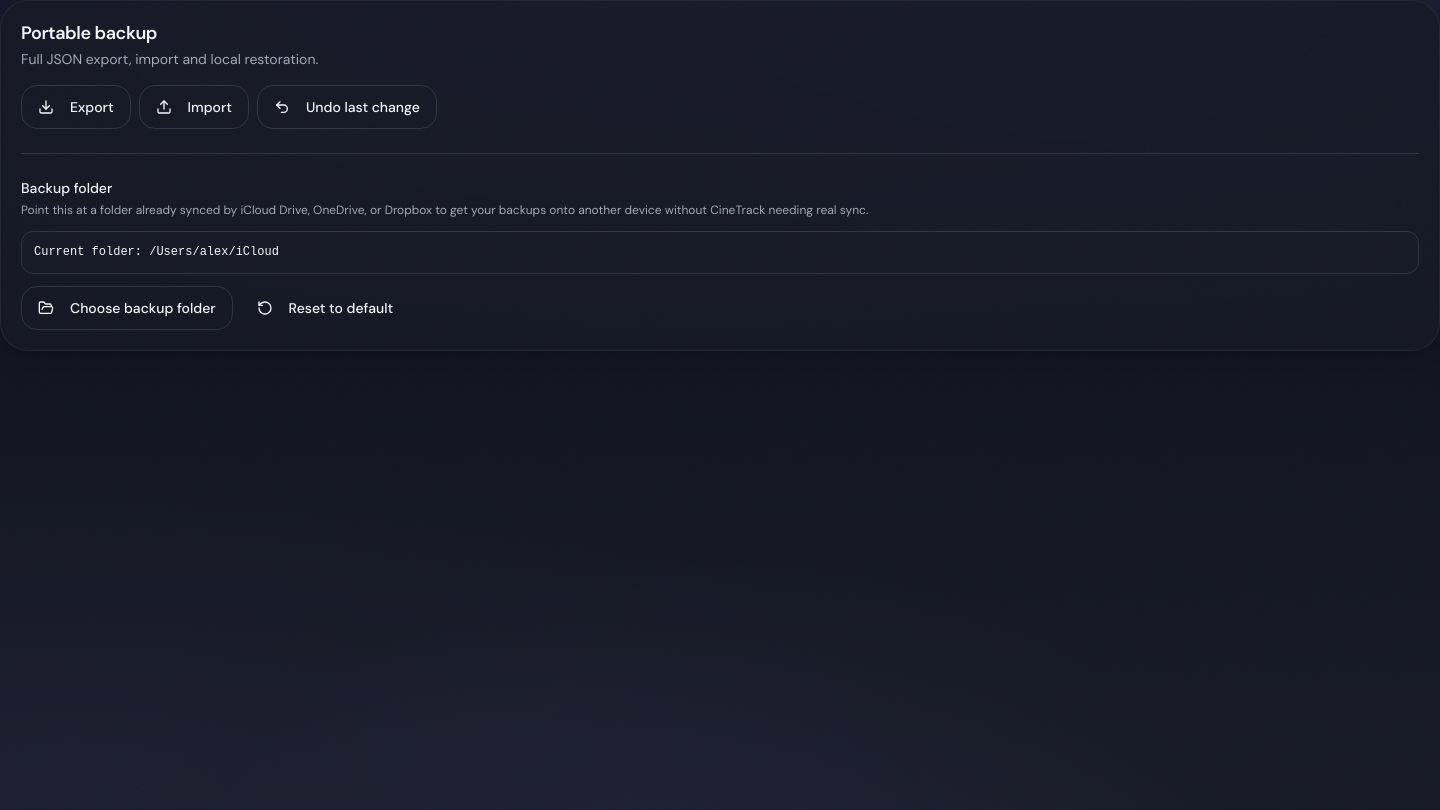
BackupTools › backup folder › resetting clears the backup folder back to the default
Click the button "Reset to default".
click(325, 308)  # box 241,286 -> 409,330
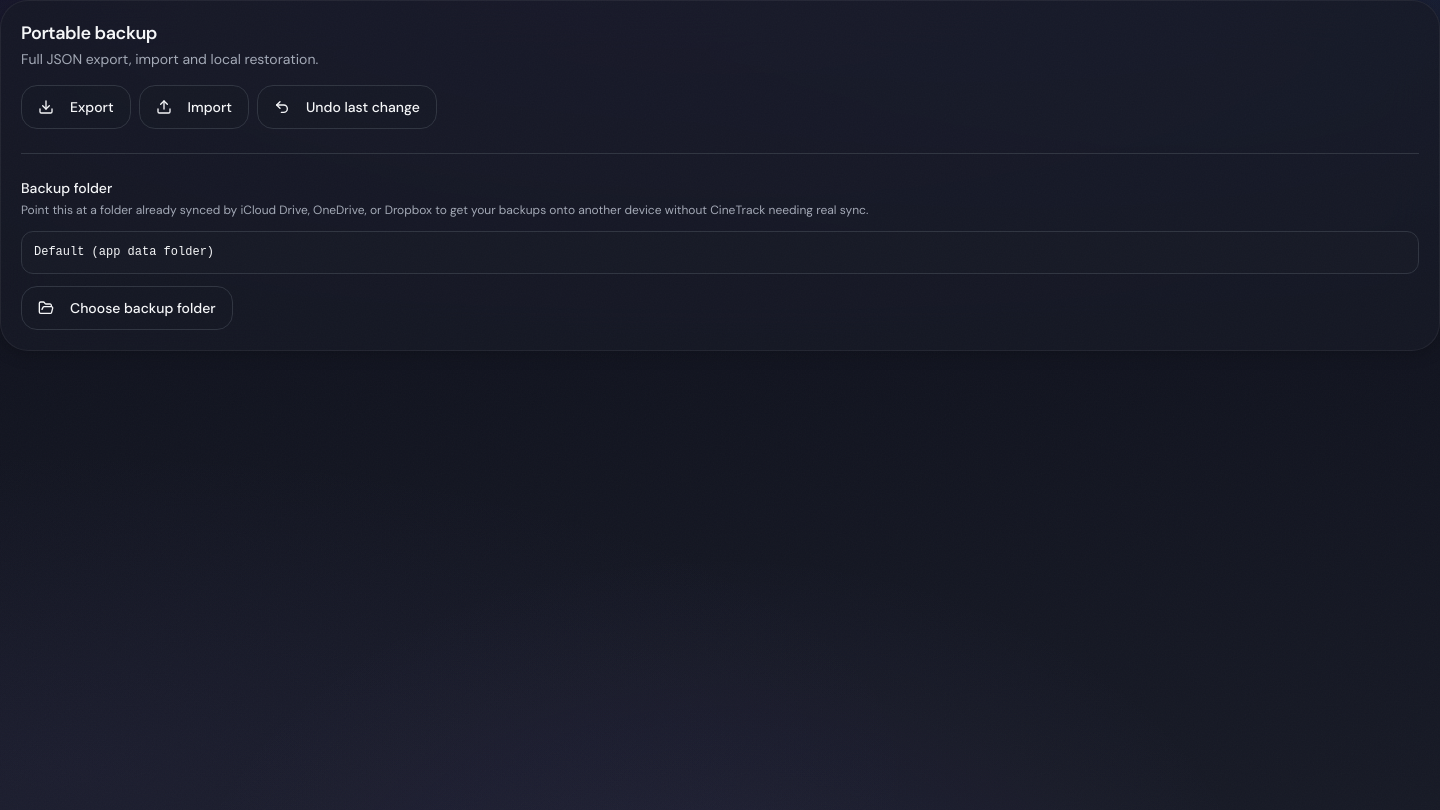
Check: the text "Default (app data folder)" is shown, box 21,231 -> 1419,274
Check: the button "Reset to default" is gone
